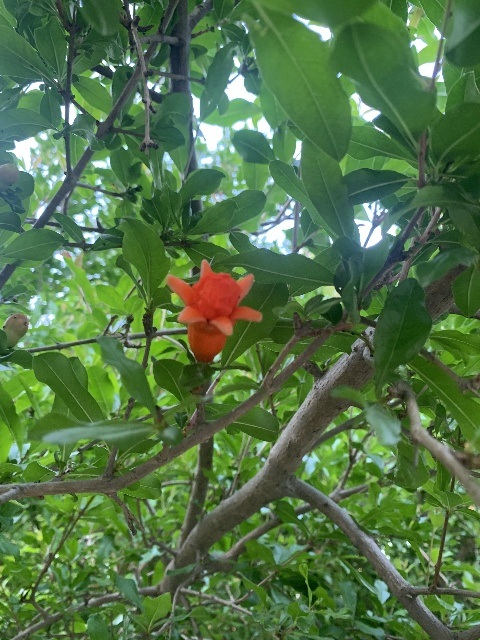bud: (1, 312, 28, 348), (0, 163, 18, 192)
flower: (166, 259, 263, 362)
